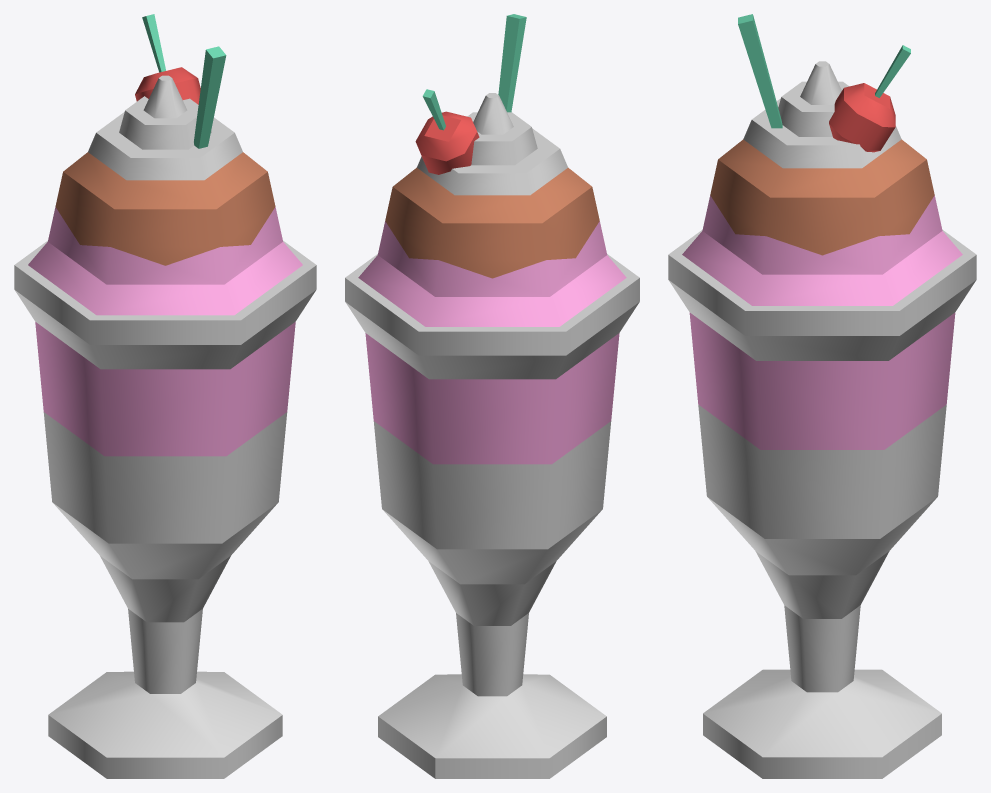
Rendered from sundae.obj.
3 views of the same model, side by side, from view 1: azimuth 30°, elevation 25°; view 2: azimuth 150°, elevation 25°; view 3: azimuth 270°, elevation 25° (orthographic). The views are drawn at different scales.
Visible parts, largest first — view 1: sundae, straw, cherry; view 2: sundae, cherry, straw; view 3: sundae, cherry, straw.
Boxes of the visible parts, <box> form: sundae: <box>14,75,316,778</box>; straw: <box>194,46,226,148</box>; cherry: <box>135,14,200,104</box>; sundae: <box>345,93,639,778</box>; cherry: <box>415,89,479,174</box>; straw: <box>498,14,526,112</box>; sundae: <box>668,61,976,778</box>; cherry: <box>829,45,910,152</box>; straw: <box>738,14,782,128</box>.
Bounding box in the file's own units: 0.2232 × 0.6679 × 0.2577.
